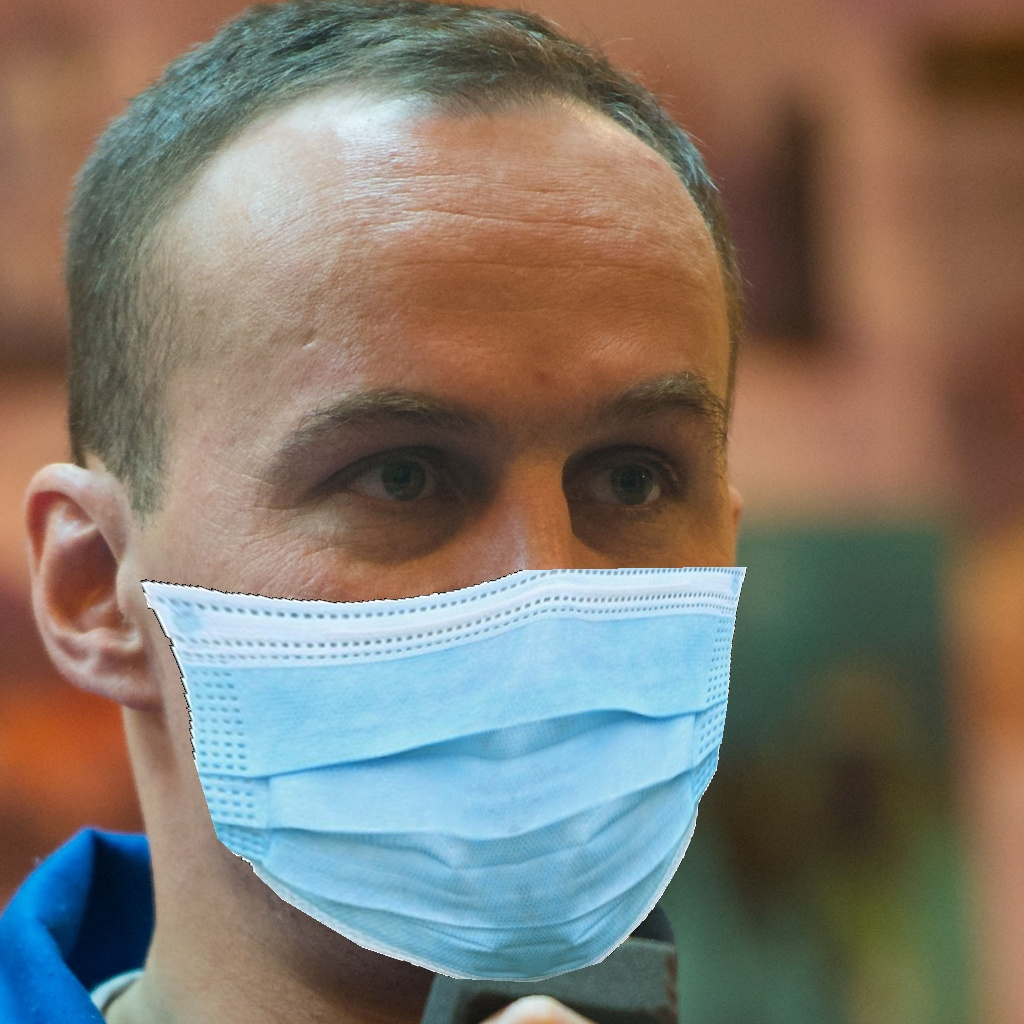Mask: (140, 356, 750, 983)
